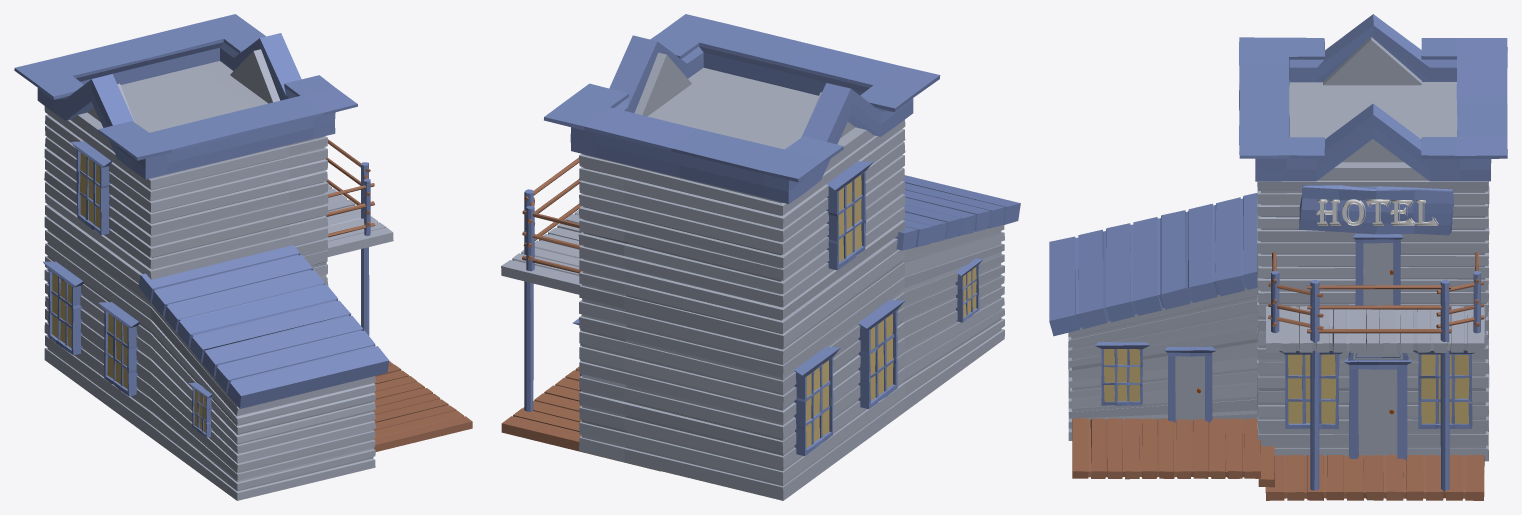
Rendered from Hotel.fbx.
The picture shows the model from 3 angles, left to right: view 1: azimuth 30°, elevation 25°; view 2: azimuth 150°, elevation 25°; view 3: azimuth 270°, elevation 25°; orthographic projection. The views are drawn at different scales.
Parts seen in each view (by area): view 1: Hotel; view 2: Hotel; view 3: Hotel, Text.001.
Part boxes in pixels (x1,y1,x2,y2): Hotel: (14,14,472,500); Hotel: (501,14,1020,500); Hotel: (1049,14,1507,500); Text.001: (1316,199,1438,225).
Size of the model in its own units: 390 by 447 by 527.
